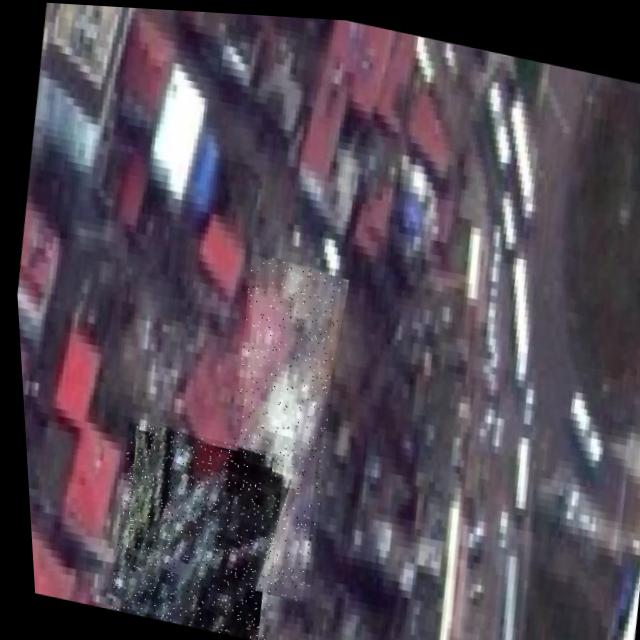Rubble: (196, 249, 355, 602), (94, 419, 288, 640)
